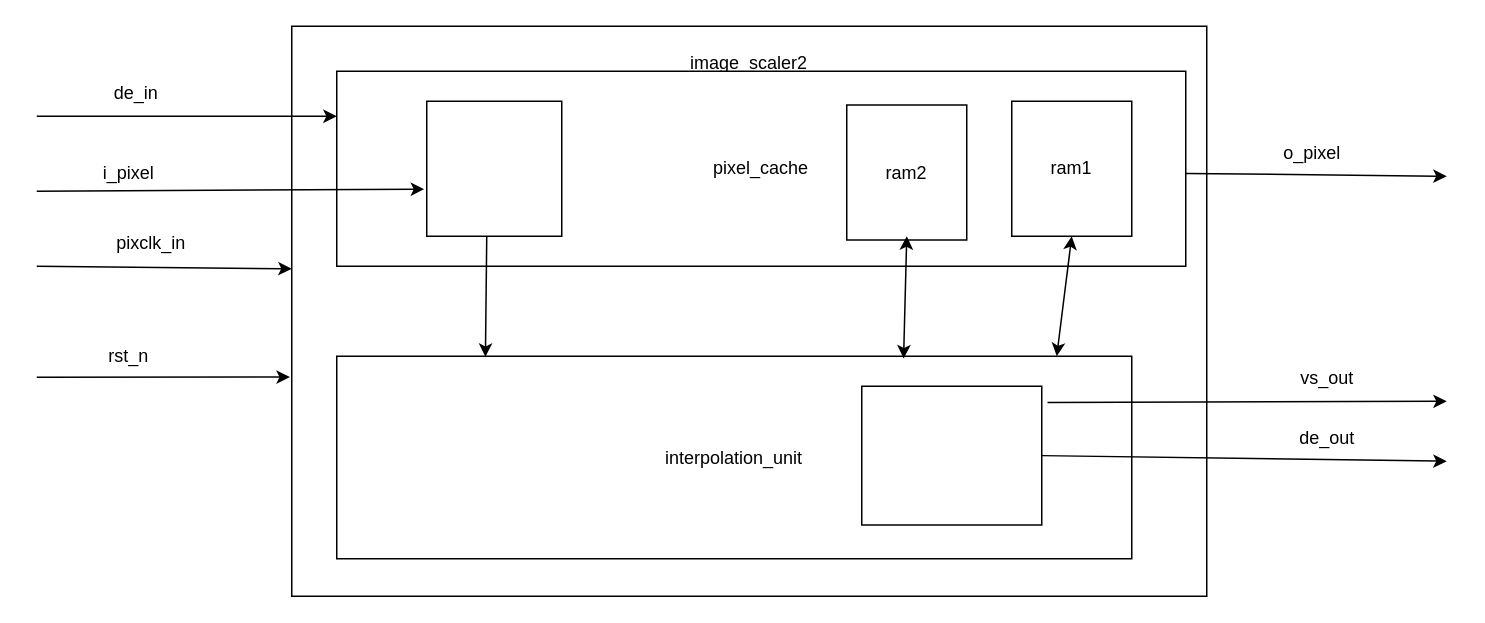
Some shapes in this 1485 by 623 pixel diagram are drawn without their labels. Here are the shapes that lost their labels. From the top down, the centre of each, then its label:
At (x=493, y=168): "input_cache".
At (x=951, y=455): "ctrl_signal".
